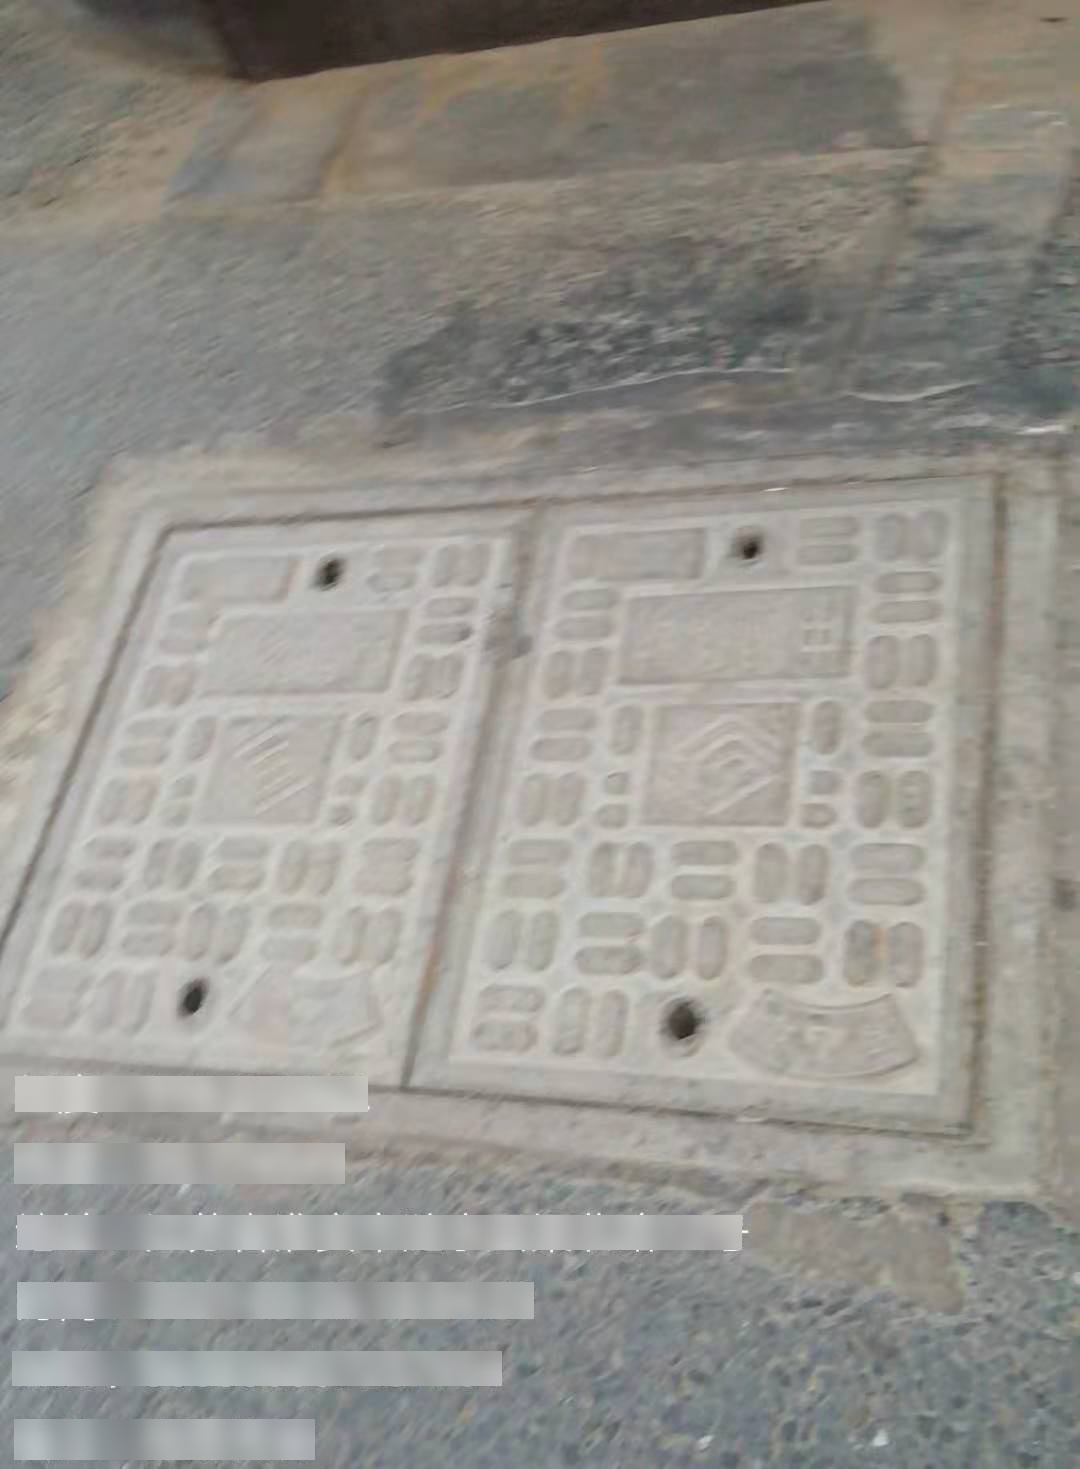good: (6, 464, 1042, 1198)
